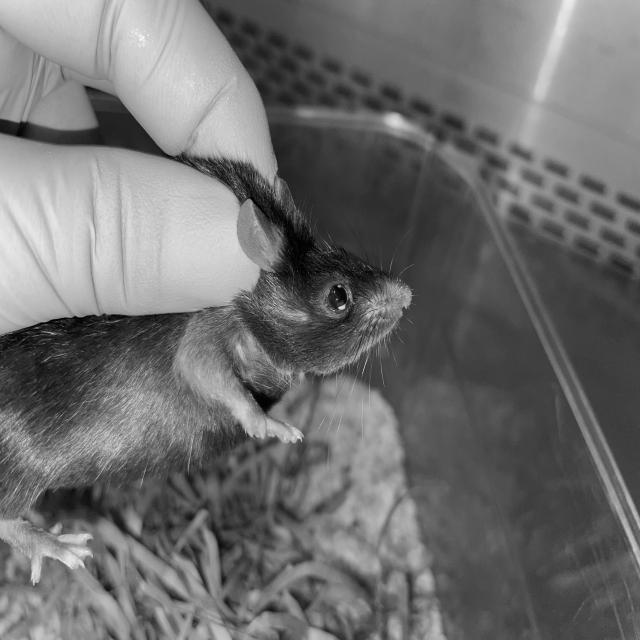Face: (239, 160, 418, 399)
